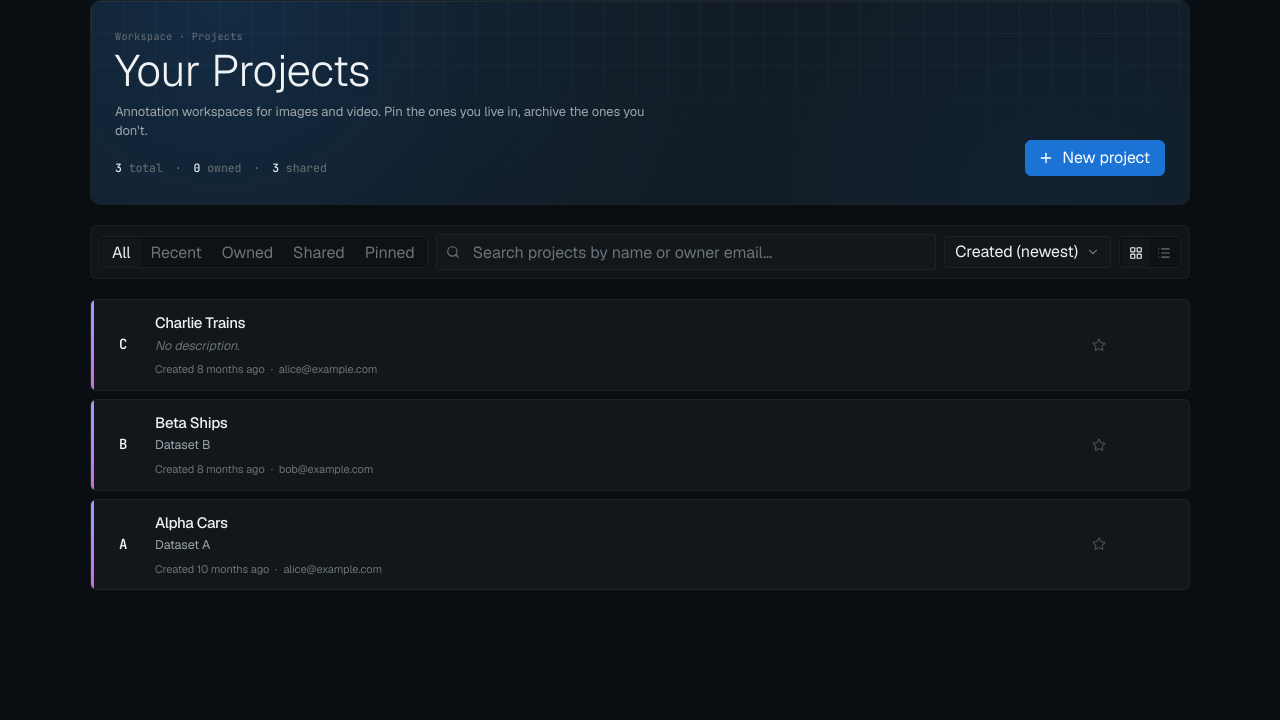
Test: ProjectsToolbar › matches on owner email as well as name
Expected: the heading "Alpha Cars" is shown, 155,512 -> 228,534
Type "bob@" into the search field with test id "projects-toolbar-search".
click(686, 252); type("bob@")  # box 436,234 -> 936,270
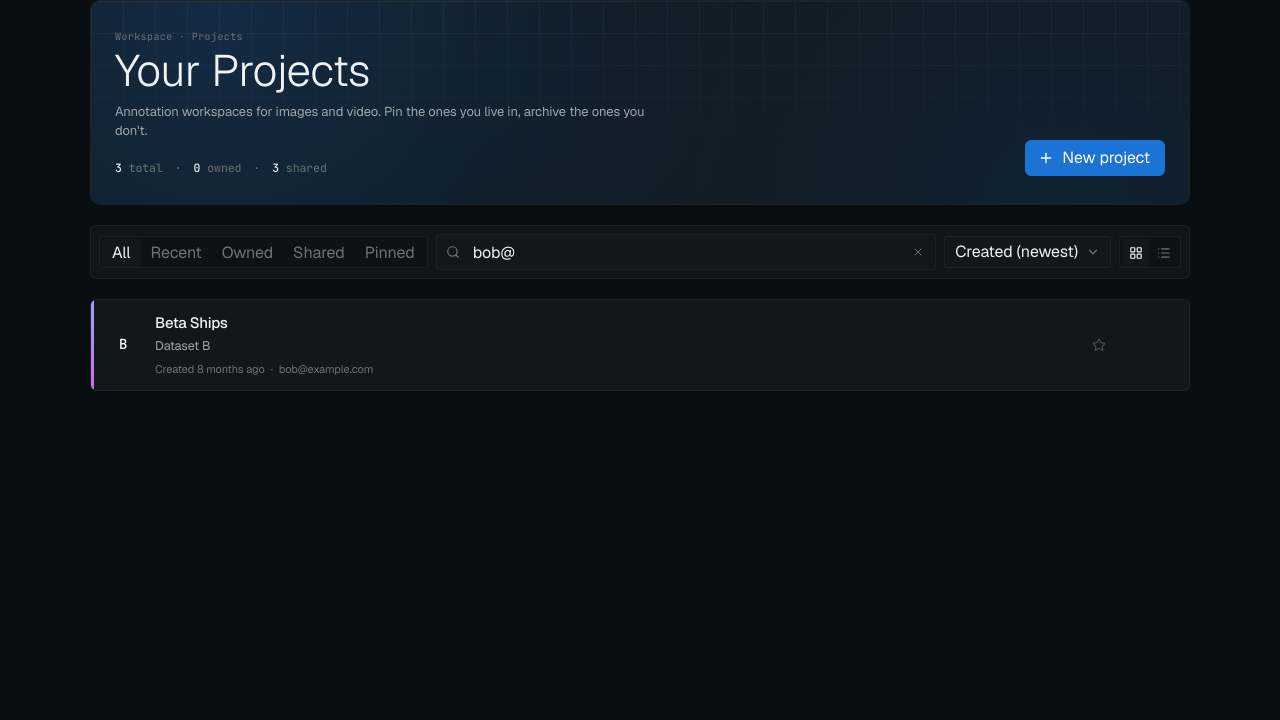
Expected: the heading "Beta Ships" is shown, 155,312 -> 228,334
Result: the link "Alpha Cars" is gone
